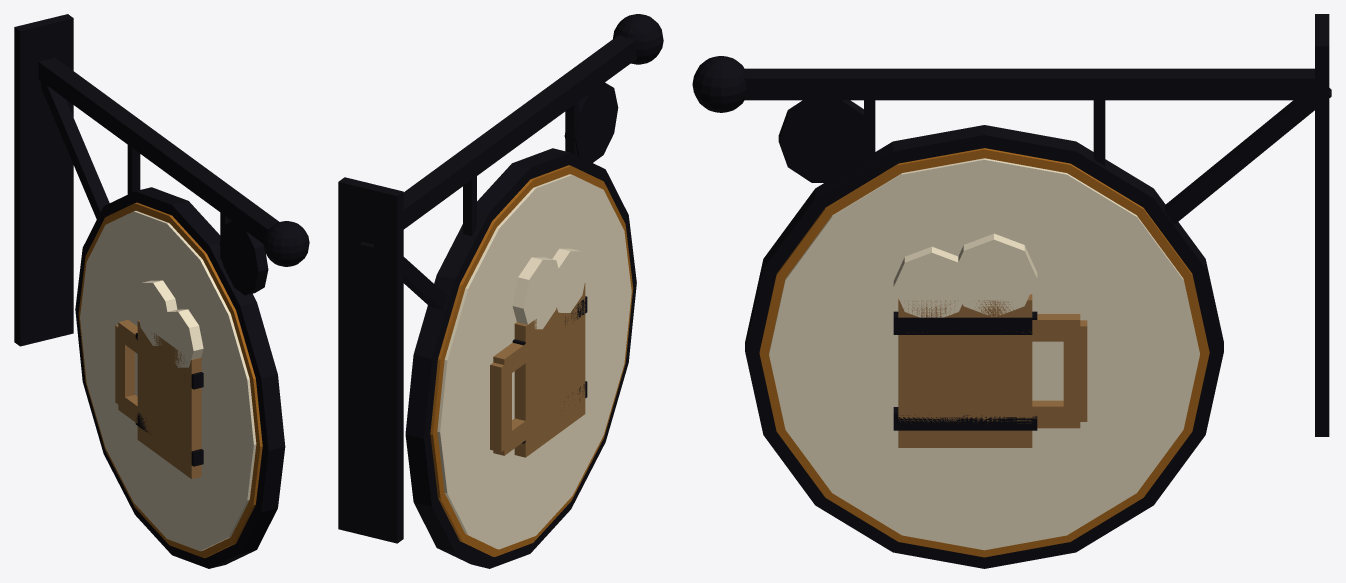
File: shop_tavern_sign.gltf
3 views of the same model, side by side, from view 1: azimuth 30°, elevation 25°; view 2: azimuth 150°, elevation 25°; view 3: azimuth 270°, elevation 25° (orthographic). The views are drawn at different scales.
Visible parts, largest first — view 1: ShopTavernSignShopIron, ShopTavernSignShopCream, ShopTavernSignShopWoodLight, ShopTavernSignShopCloth; view 2: ShopTavernSignShopIron, ShopTavernSignShopCream, ShopTavernSignShopWoodLight, ShopTavernSignShopCloth; view 3: ShopTavernSignShopCream, ShopTavernSignShopIron, ShopTavernSignShopWoodLight, ShopTavernSignShopCloth.
Boxes of the visible parts, x1,y1,x2,y2 form: ShopTavernSignShopIron: (14,14,309,568); ShopTavernSignShopCream: (80,211,256,551); ShopTavernSignShopWoodLight: (115,320,201,479); ShopTavernSignShopCloth: (78,202,262,558); ShopTavernSignShopIron: (338,14,663,568); ShopTavernSignShopCream: (437,174,631,549); ShopTavernSignShopWoodLight: (490,283,585,457); ShopTavernSignShopCloth: (430,165,633,556); ShopTavernSignShopCream: (769,158,1199,550); ShopTavernSignShopIron: (692,14,1331,568); ShopTavernSignShopWoodLight: (898,294,1087,447); ShopTavernSignShopCloth: (759,148,1209,557).
Bounding box in the file's own units: 0.16 × 1.23 × 1.33.
